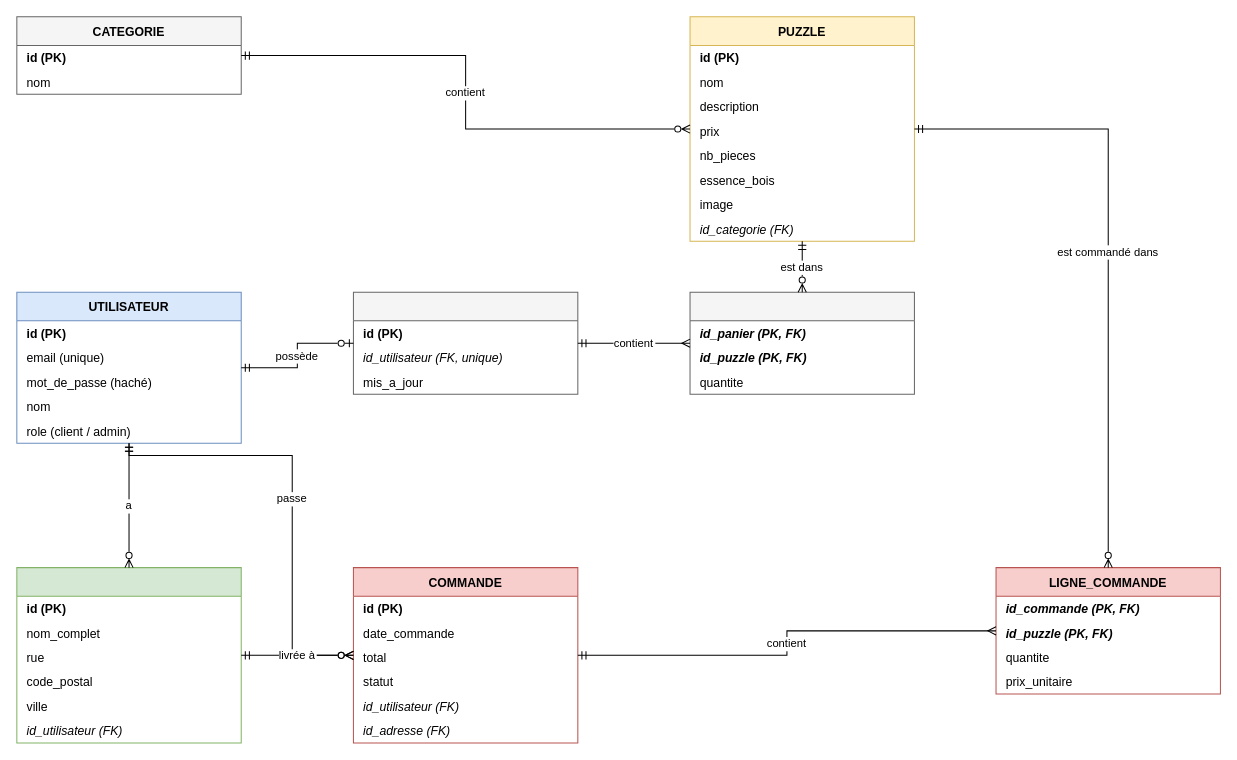
The diagram is 1237 pixels wide and 760 high, and some of its shapes have lost their labels. Each missing label, with the box of its shape:
ADRESSE: (16, 567, 241, 743)
LIGNE_PANIER: (689, 291, 914, 394)
PANIER: (352, 291, 578, 394)
